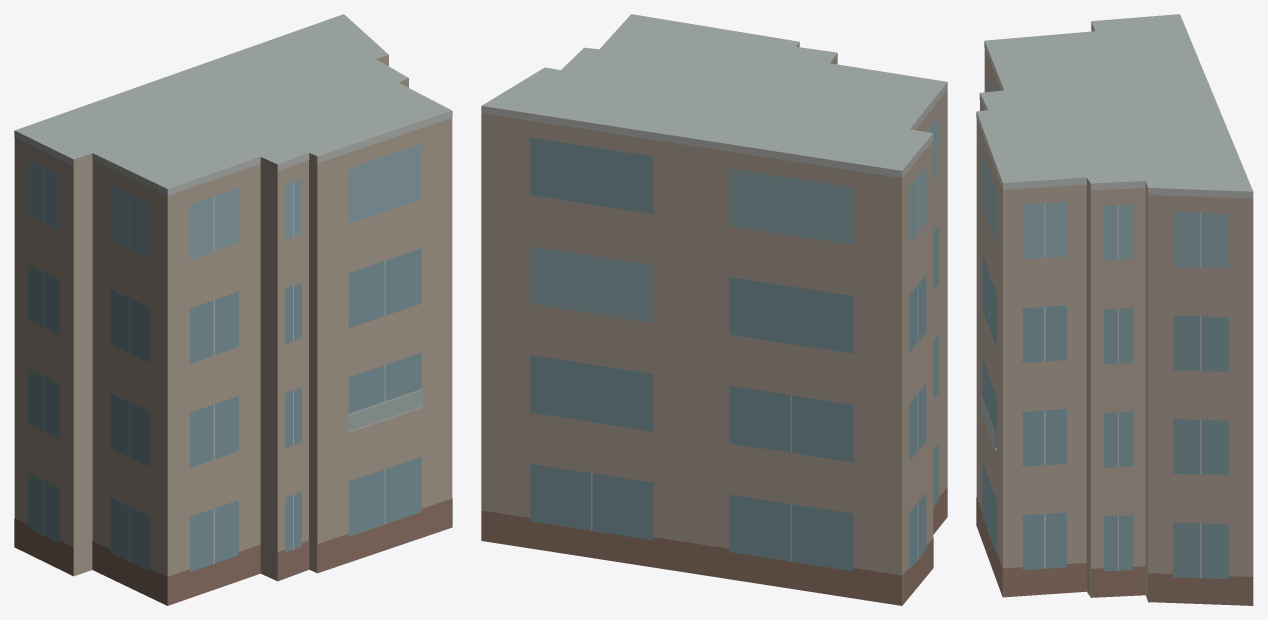
Rendered from survey-upis-32476804.glb.
3 views of the same model, side by side, from view 1: azimuth 30°, elevation 25°; view 2: azimuth 150°, elevation 25°; view 3: azimuth 270°, elevation 25° (orthographic). The views are drawn at different scales.
Parts seen in each view (by area): view 1: survey-upis-32476804.tmp; view 2: survey-upis-32476804.tmp; view 3: survey-upis-32476804.tmp.
Part boxes in pixels (box(x1,y1,x2,y2)): survey-upis-32476804.tmp: box(14, 14, 452, 605); survey-upis-32476804.tmp: box(481, 14, 947, 605); survey-upis-32476804.tmp: box(976, 14, 1253, 605).
Size of the model in its own units: 13.35 by 14.5 by 8.79.
